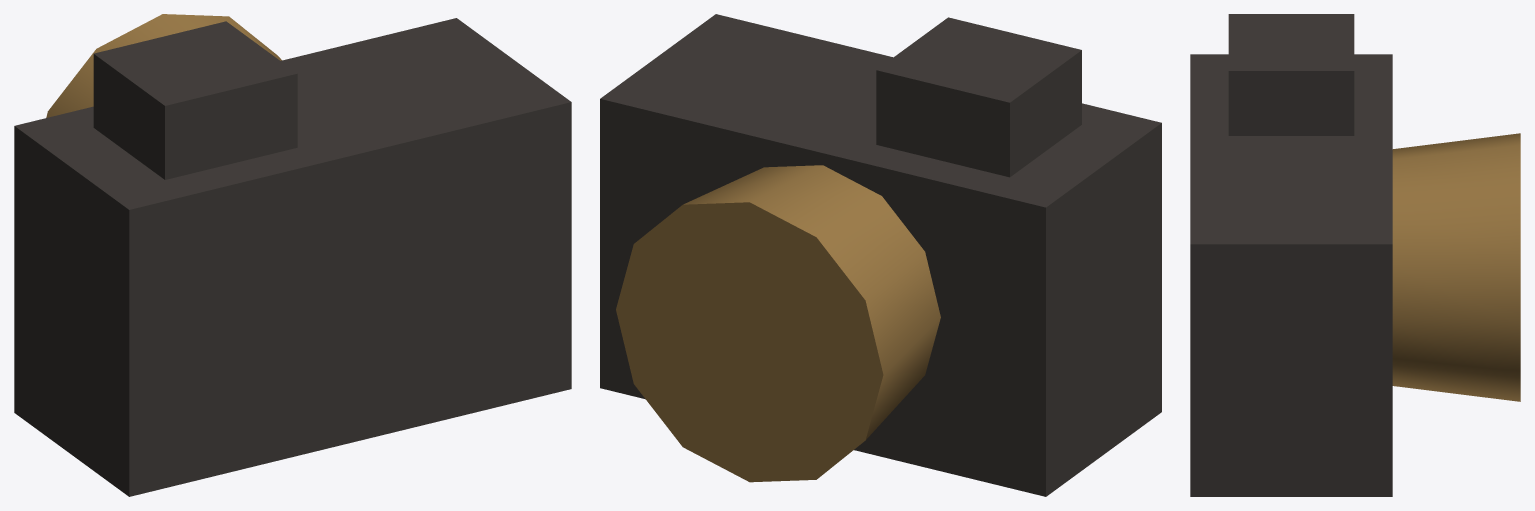
Rendered from camera.glb.
The picture shows the model from 3 angles, left to right: view 1: azimuth 30°, elevation 25°; view 2: azimuth 150°, elevation 25°; view 3: azimuth 270°, elevation 25°; orthographic projection. The views are drawn at different scales.
Parts seen in each view (by area): view 1: camera; view 2: camera; view 3: camera.
Part boxes in pixels (x1=…): camera: x1=14, y1=14, x2=571, y2=496; camera: x1=600, y1=14, x2=1161, y2=496; camera: x1=1190, y1=14, x2=1520, y2=496.
Bounding box in the file's own units: 1 × 0.78 × 0.735.
